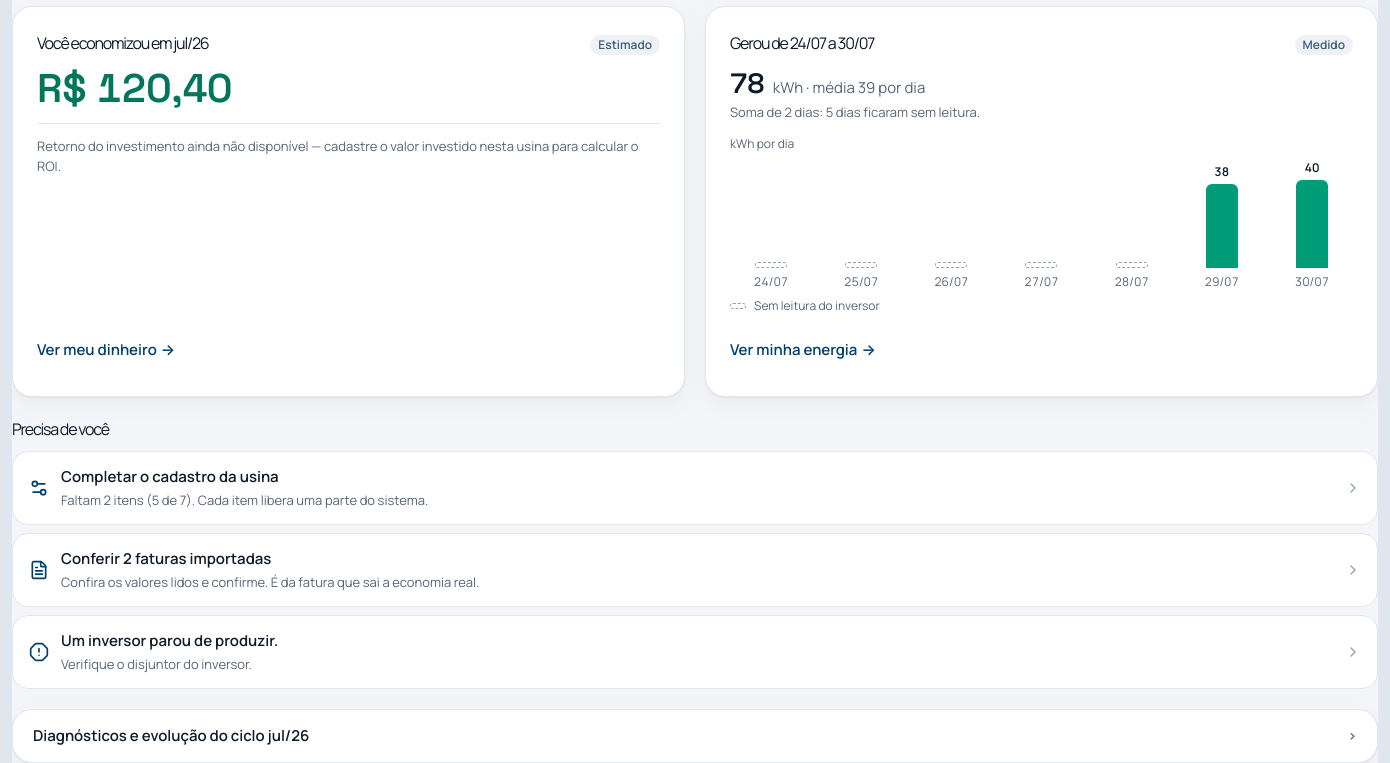
it: OverviewPage — aba Início (ADR-083) › precisa de você: cadastro incompleto, faturas pendentes e diagnóstico crítico viram ações
(page scrolled)
Click the button "Um inversor parou de produzir": point(170, 641) [12,615,1378,689]
(page scrolled)
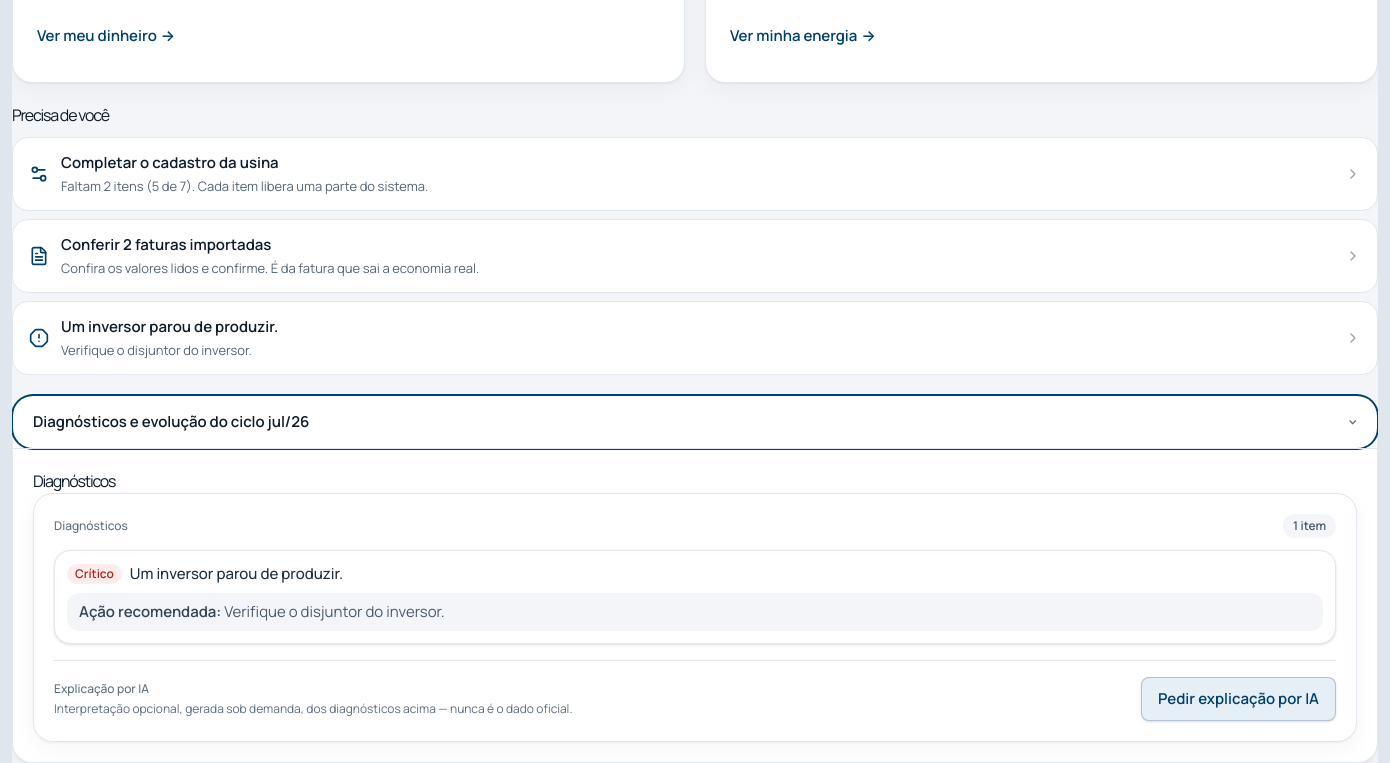
Check: the text "Um inversor parou de produzir." next to "Crítico" is shown, box [130,563,343,584]
